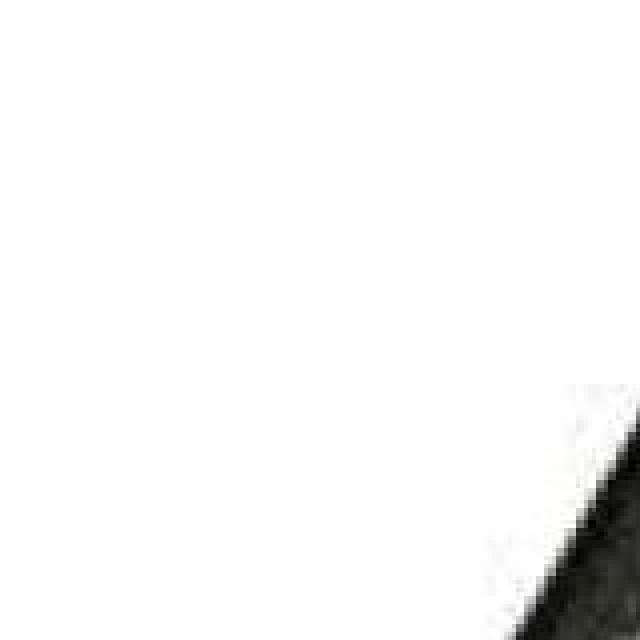potentiometer: (344, 260, 640, 640)
